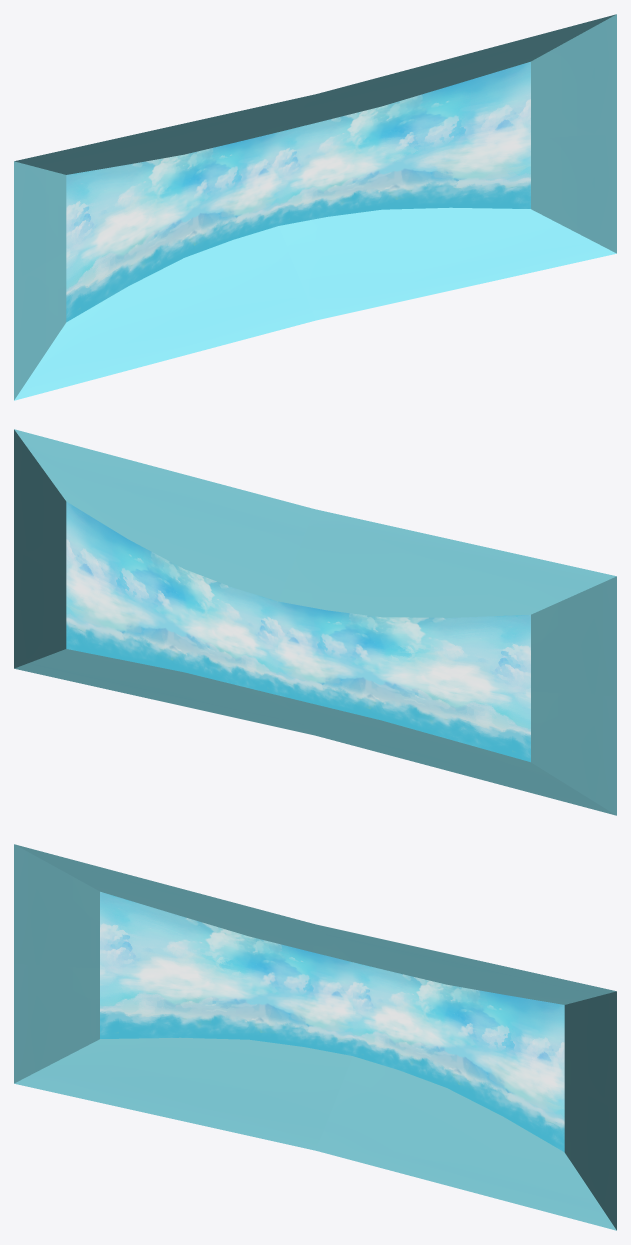
The model's file is SM_S01_ny_far02_AAA.fbx.
3 renders of one model, top to bottom at view 1: azimuth 30°, elevation 25°; view 2: azimuth 150°, elevation 25°; view 3: azimuth 330°, elevation 25°, orthographic.
Parts seen in each view (by area): view 1: SM_S01_ny_far02_AAA; view 2: SM_S01_ny_far02_AAA; view 3: SM_S01_ny_far02_AAA.
Part boxes in pixels (x1,y1,x2,y2): SM_S01_ny_far02_AAA: (14, 14, 616, 400); SM_S01_ny_far02_AAA: (14, 429, 616, 815); SM_S01_ny_far02_AAA: (14, 844, 616, 1230).
Bounding box in the file's own units: 30400 × 11540 × 3243.
